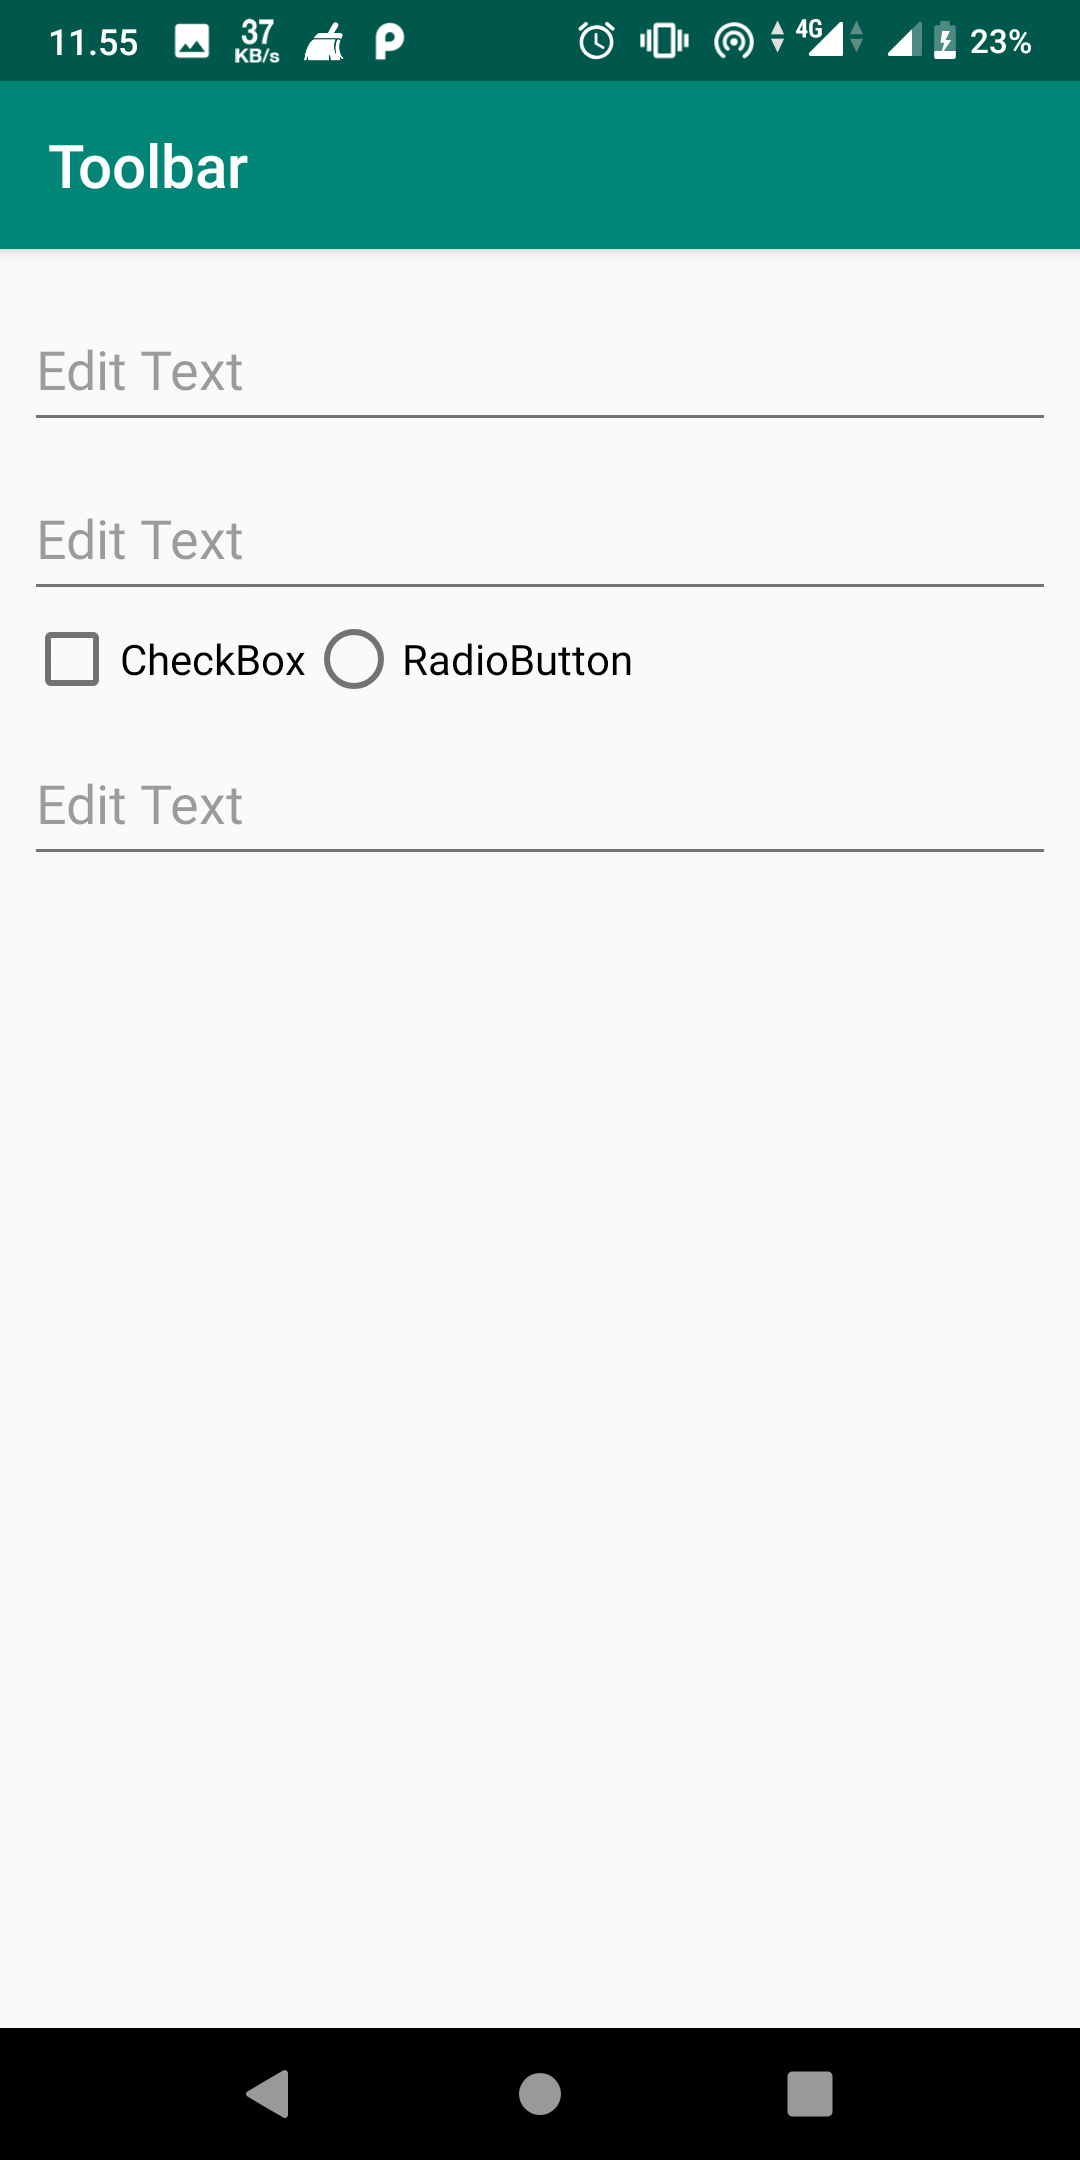checkBox: (39, 628, 311, 696)
editText: (25, 758, 1061, 873), (25, 322, 1061, 431), (25, 506, 1070, 612)
radioButton: (320, 625, 647, 698)
toolbar: (3, 85, 1080, 249)
